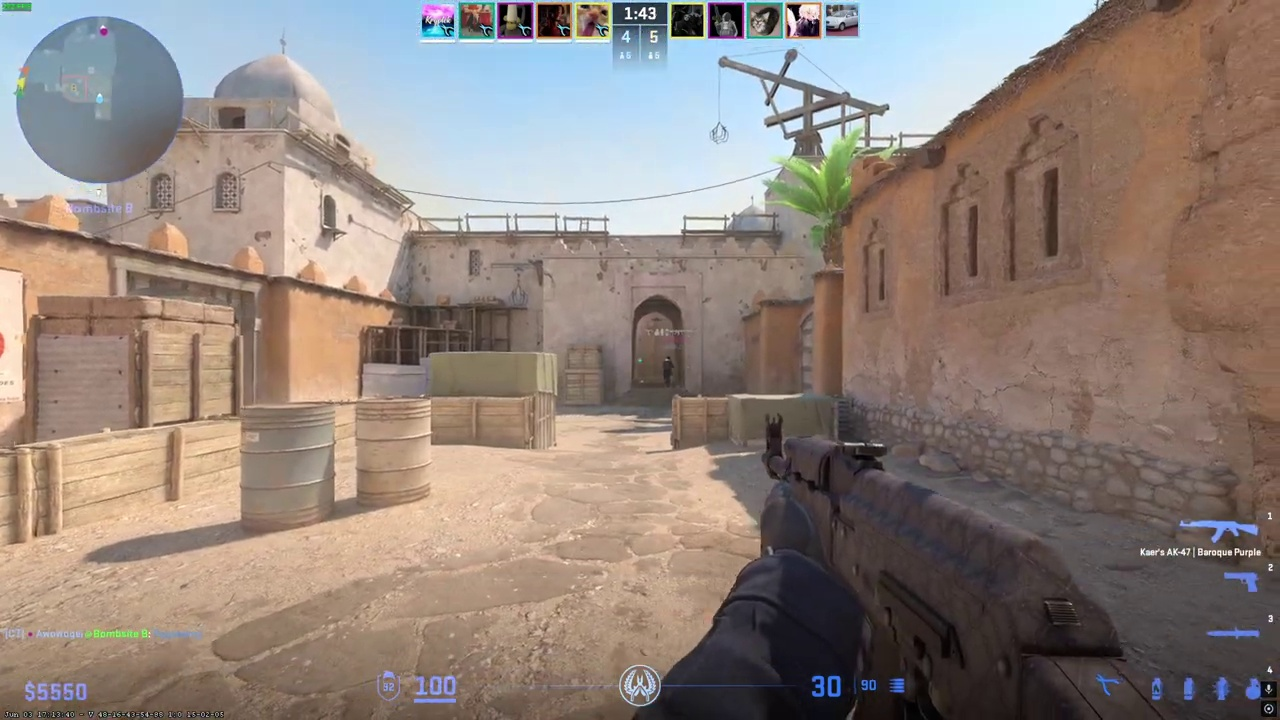CT: (663, 356, 674, 386)
